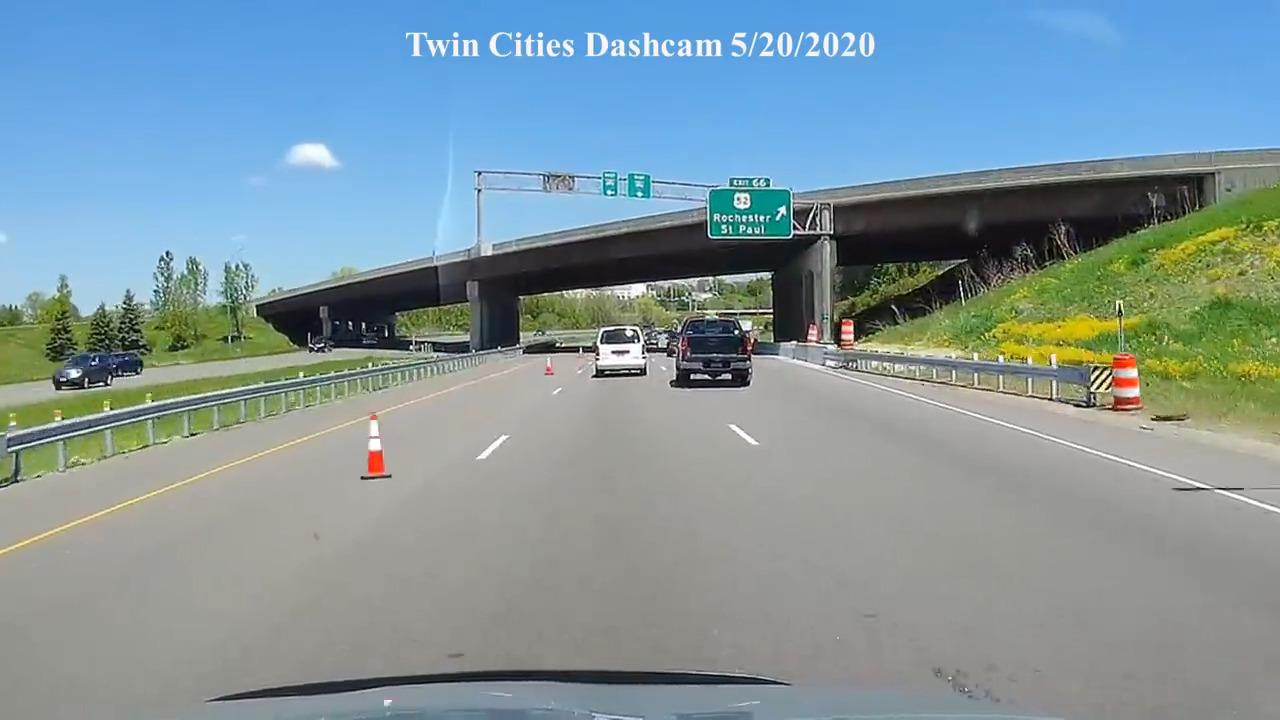car: (592, 325, 648, 378), (52, 353, 115, 391), (105, 352, 144, 377)
traffic cone: (359, 412, 393, 481), (1105, 353, 1144, 412), (545, 358, 556, 376)
